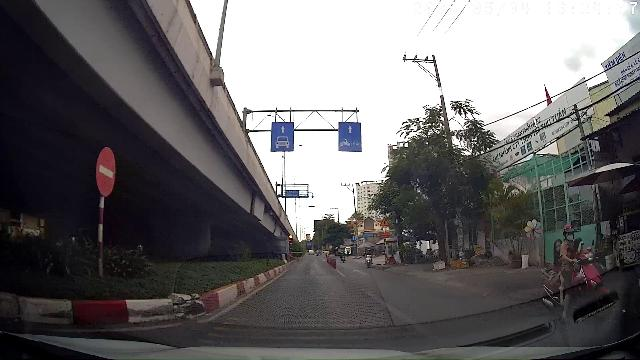102-cam-di-nguoc-chieu: (95, 145, 116, 197)
